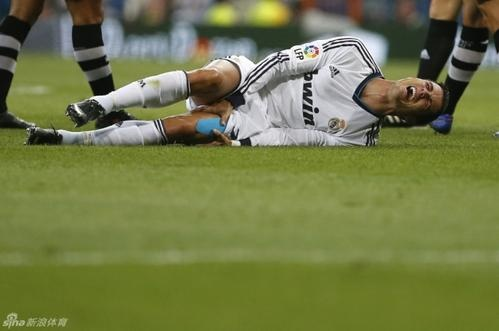falling: (32, 28, 453, 152)
